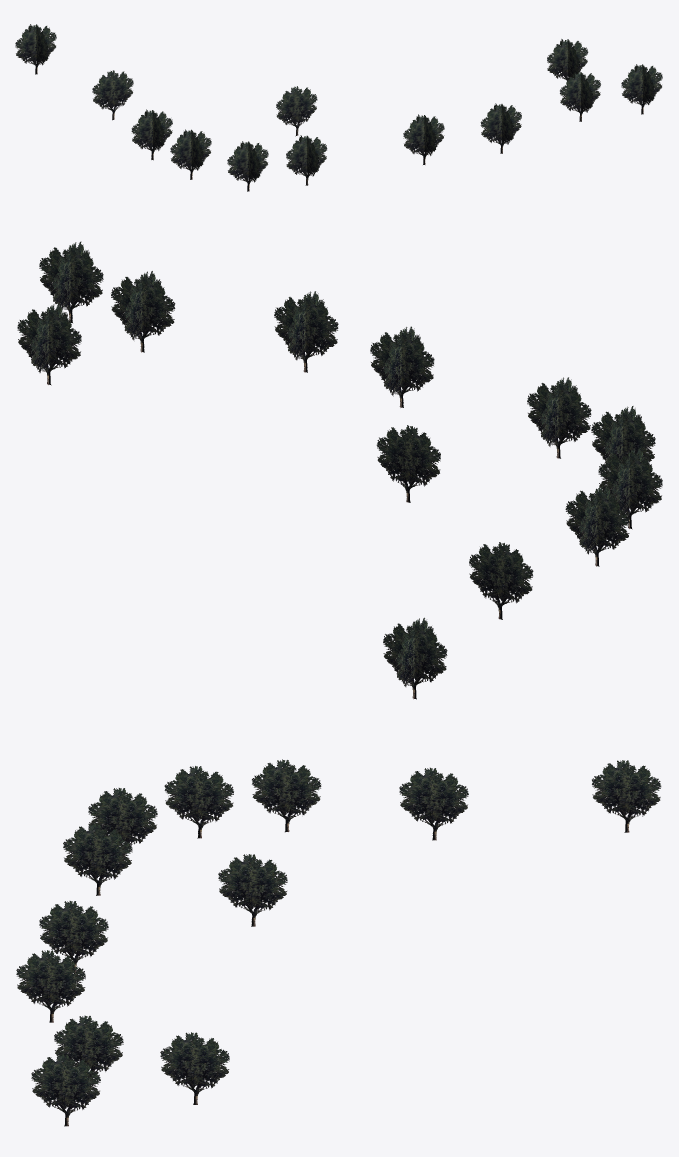
Rendered from planeTree12.FBX.
3 views of the same model, one above another, from view 1: azimuth 30°, elevation 25°; view 2: azimuth 150°, elevation 25°; view 3: azimuth 270°, elevation 25° (orthographic). The views are drawn at different scales.
Parts seen in each view (by area): view 1: planeTree12; view 2: planeTree12; view 3: planeTree12.
Boxes of the visible parts, x1,y1,x2,y2 form: planeTree12: [15, 24, 662, 191]; planeTree12: [17, 241, 662, 699]; planeTree12: [16, 759, 661, 1126].
Size of the model in its own units: 4172 by 441 by 3519.
1 material, 1 textured.
